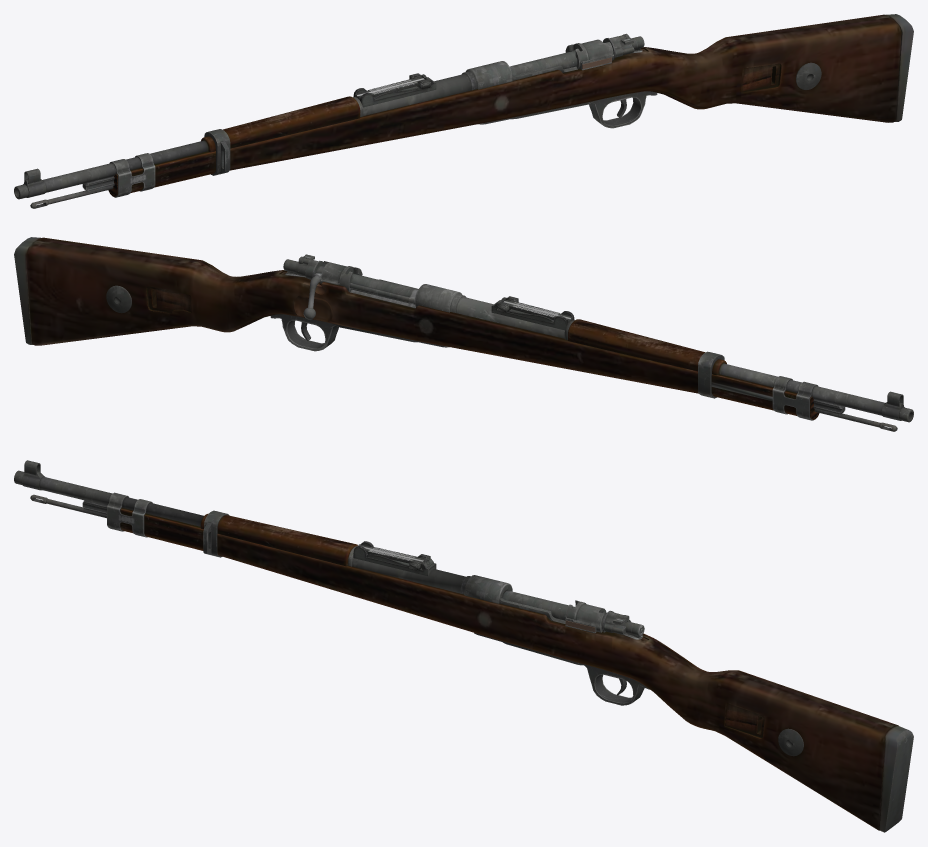
Rendered from sniper.glb.
3 renders of one model, top to bottom at view 1: azimuth 30°, elevation 25°; view 2: azimuth 150°, elevation 25°; view 3: azimuth 330°, elevation 25°, orthographic.
Visible parts, largest first — view 1: b_low, a_low, d_low, c_low, e_low; view 2: b_low, a_low, d_low, c_low, e_low; view 3: b_low, a_low, d_low, c_low, e_low.
Boxes of the visible parts, x1,y1,x2,y2 form: b_low: (108,14,913,196); a_low: (14,91,657,208); d_low: (353,39,642,116); c_low: (509,33,644,75); e_low: (353,73,436,107); b_low: (14,237,819,419); a_low: (270,314,913,431); d_low: (285,261,574,339); c_low: (283,254,418,319); e_low: (491,296,574,330); b_low: (120,507,913,832); a_low: (14,460,649,705); d_low: (348,546,642,639); c_low: (502,590,644,637); e_low: (353,541,436,575).
Size of what is drawn, in the model's own units: 2 by 0.341 by 0.1091.
Materials: 5 (5 with a texture image).
